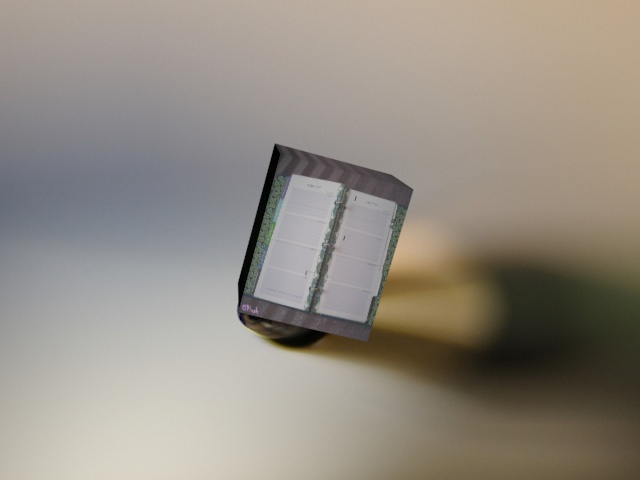file_cabinet: (233, 137, 416, 352)
